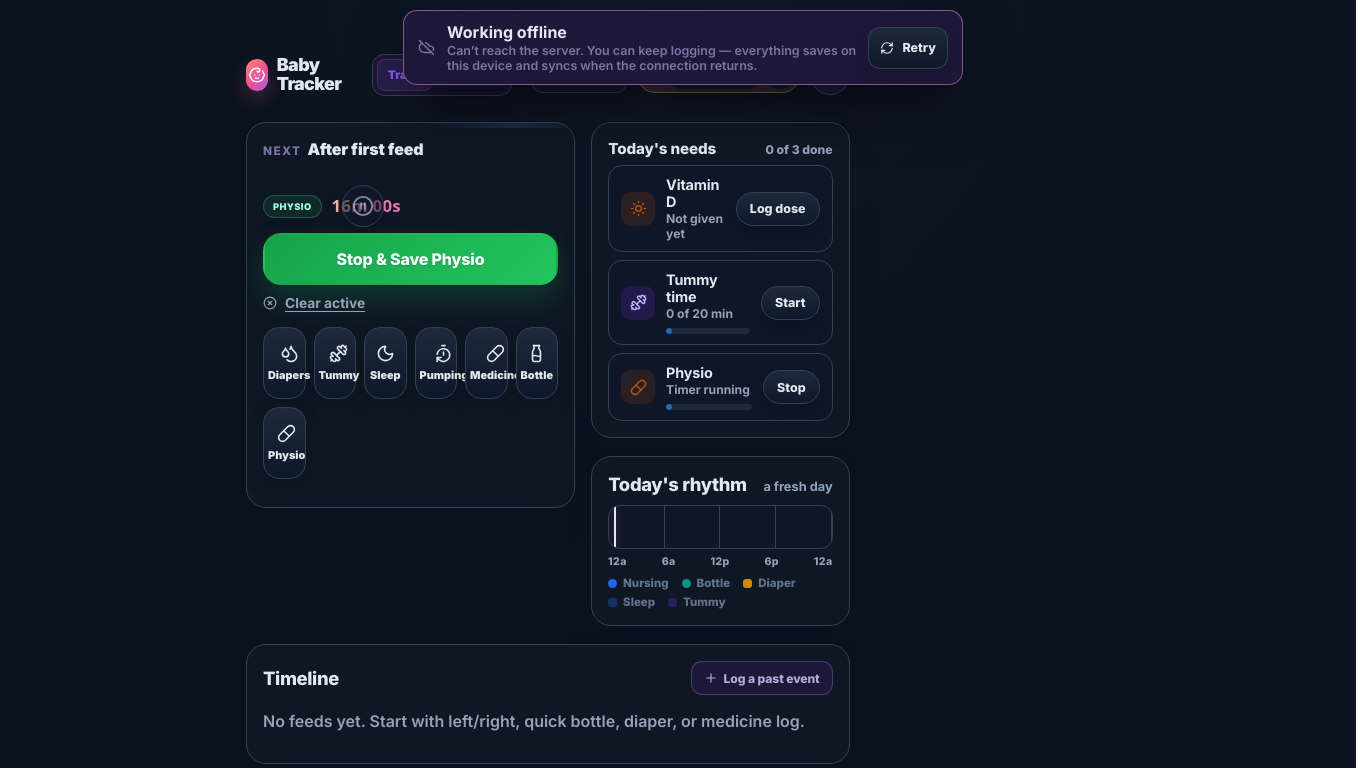
Test: caregiver-defined timers › saves elapsed minutes onto the tracker, not into tummy-time history
Click the button with aria-label "Stop Physio timer" at [791, 387], box [763,370,820,404]
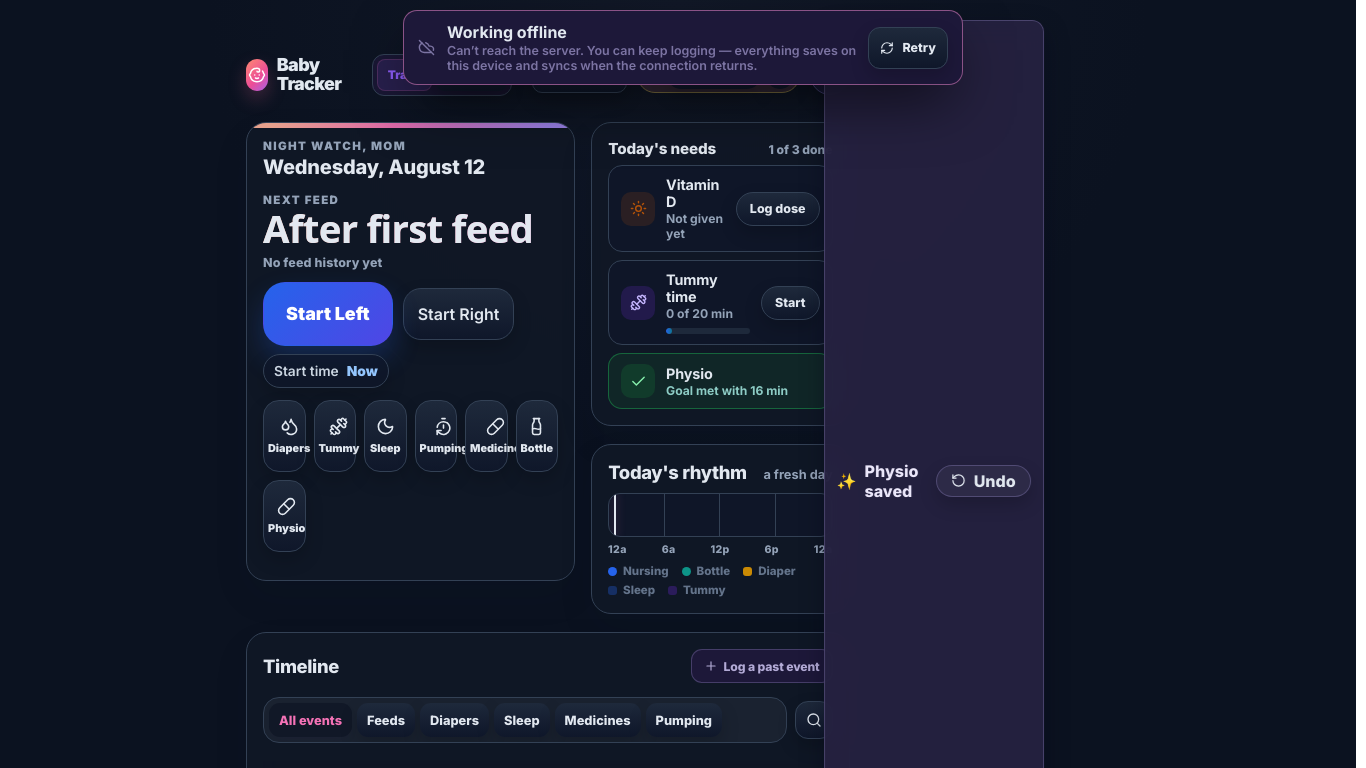
Expected: the text "Goal met with 16 min" is shown, [666,382,788,398]
